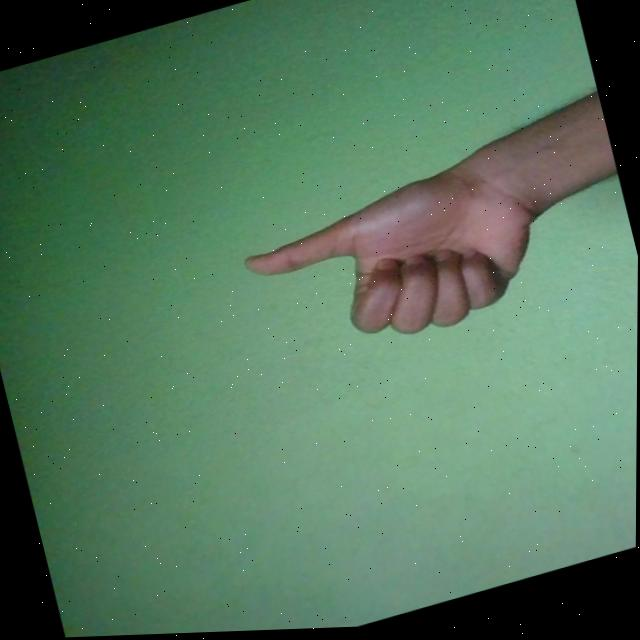Good Job: (234, 150, 562, 381)
